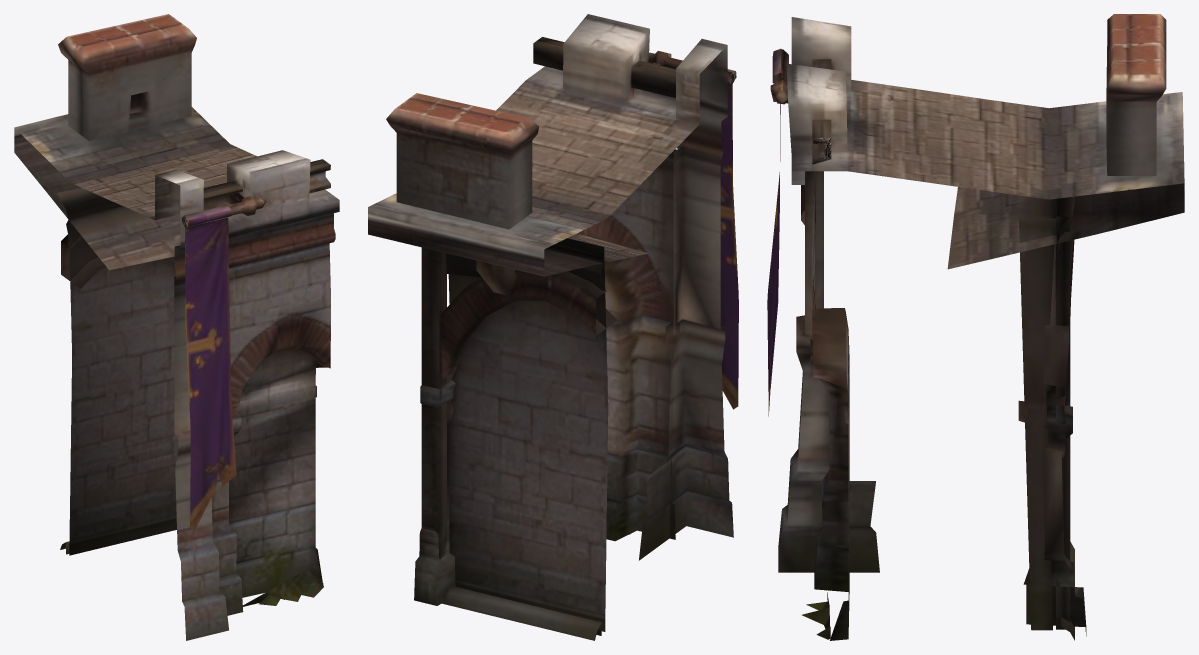
File: WallRunRight_21.fbx
The picture shows the model from 3 angles, left to right: view 1: azimuth 30°, elevation 25°; view 2: azimuth 150°, elevation 25°; view 3: azimuth 270°, elevation 25°; orthographic projection. The views are drawn at different scales.
Parts seen in each view (by area): view 1: Imported wall section.082; view 2: Imported wall section.082; view 3: Imported wall section.082.
Boxes of the visible parts, box(x1,y1,x2,y2) form: Imported wall section.082: box(14, 14, 339, 640); Imported wall section.082: box(368, 14, 738, 640); Imported wall section.082: box(767, 14, 1184, 640).
Size of the model in its own units: 200 by 574 by 386.
1 material, 1 textured.
